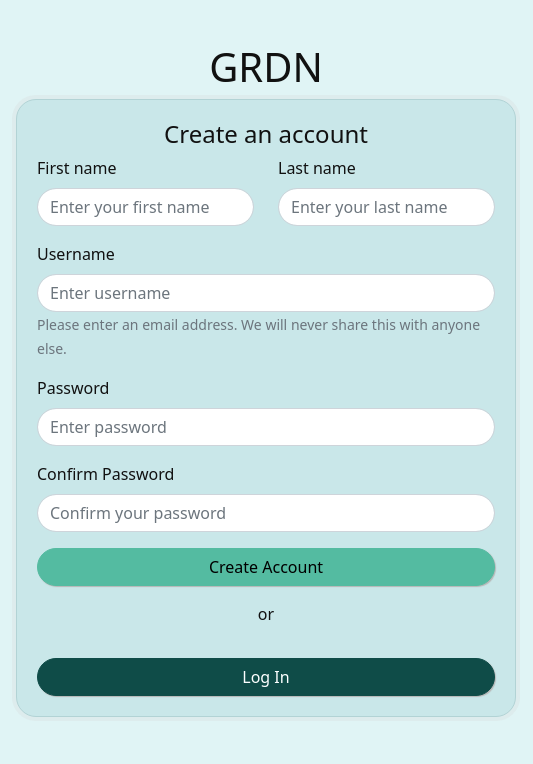
Test: Create-Account › If any variable is empty, return a error message
Type "James" into the field labelled "First name" at x=146, y=207, box [37, 188, 254, 226]
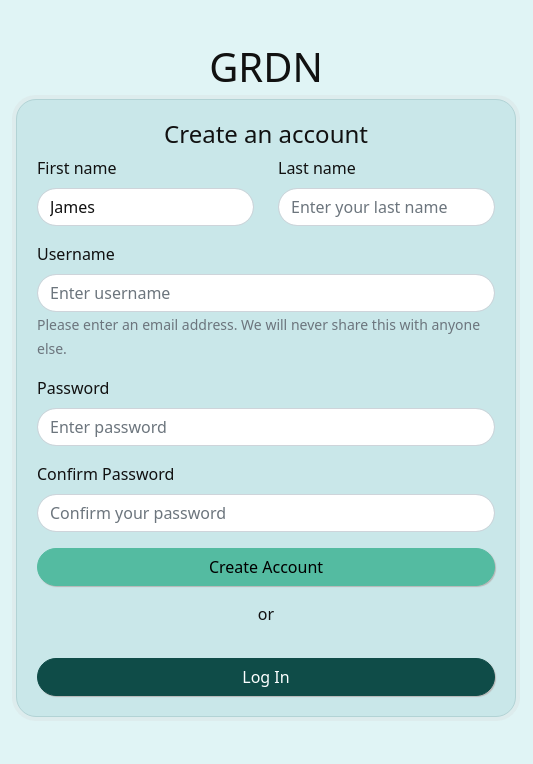
Type "Arthur" into the field labelled "Last name" at x=386, y=207, box [278, 188, 495, 226]
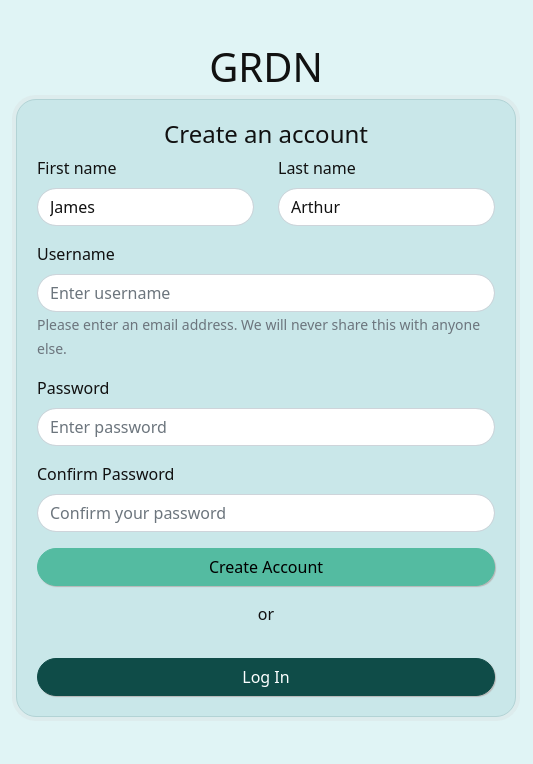
Type "user@email.com" into the field labelled "Username" at x=266, y=293, box [37, 274, 495, 312]
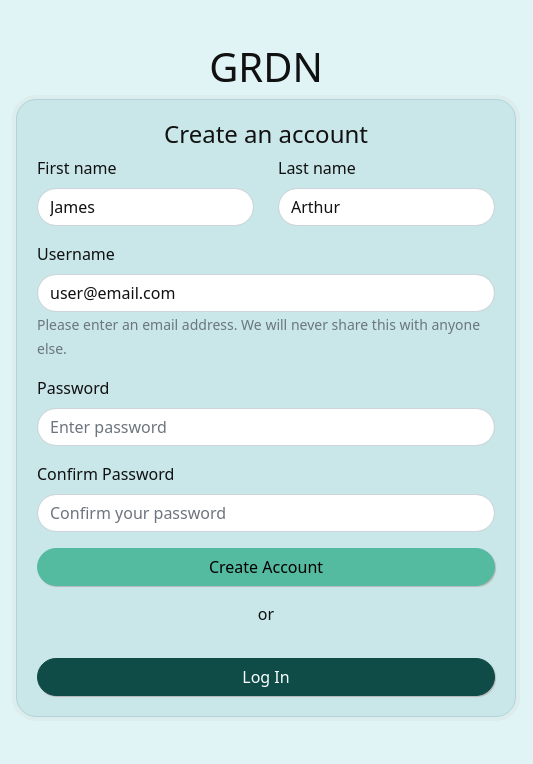
Type "password" into the password field labelled "Password" at x=266, y=427, box [37, 408, 495, 446]
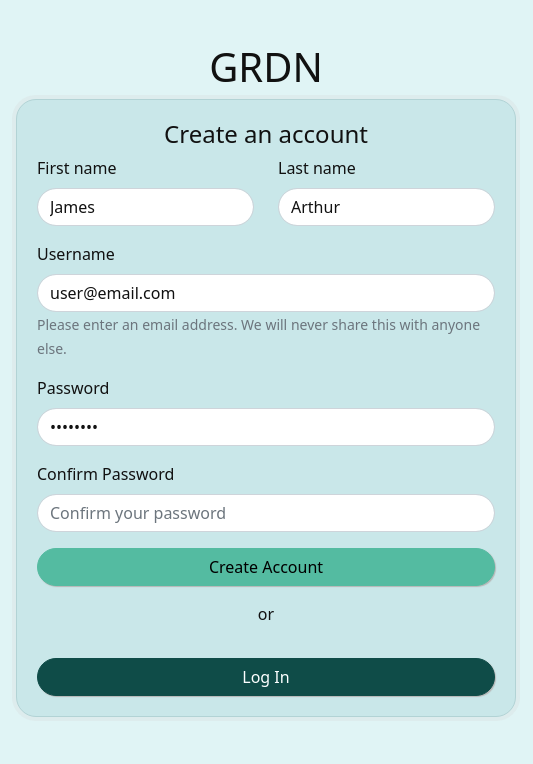
Type "password" into the password field labelled "Confirm Password" at x=266, y=513, box [37, 494, 495, 532]
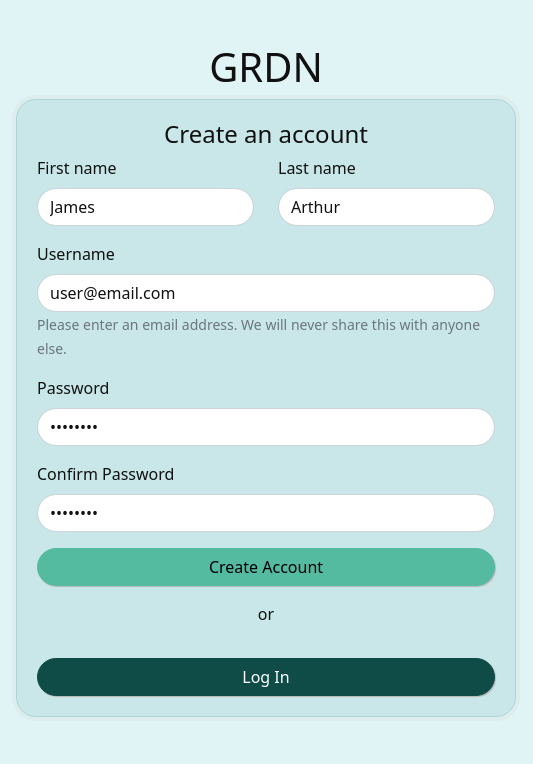
Click the button "Create Account" at x=266, y=567, box [37, 548, 495, 586]
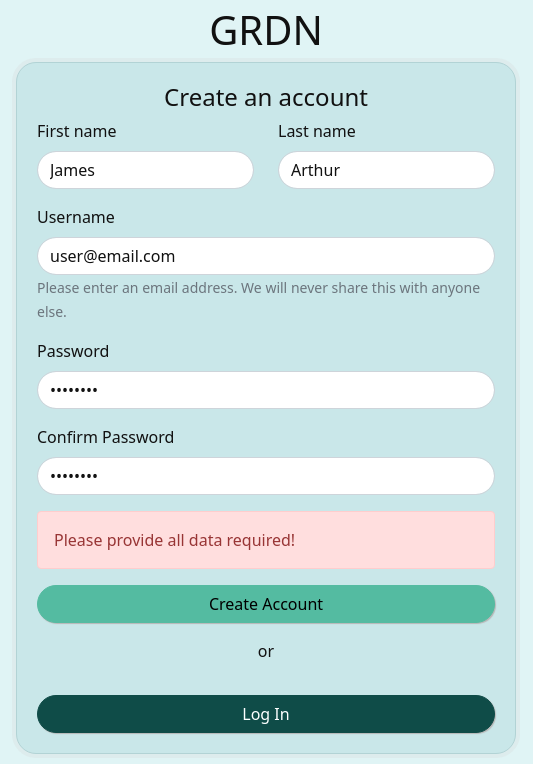
Expected: the text "Please provide all data required!" is shown, [37, 511, 495, 569]
